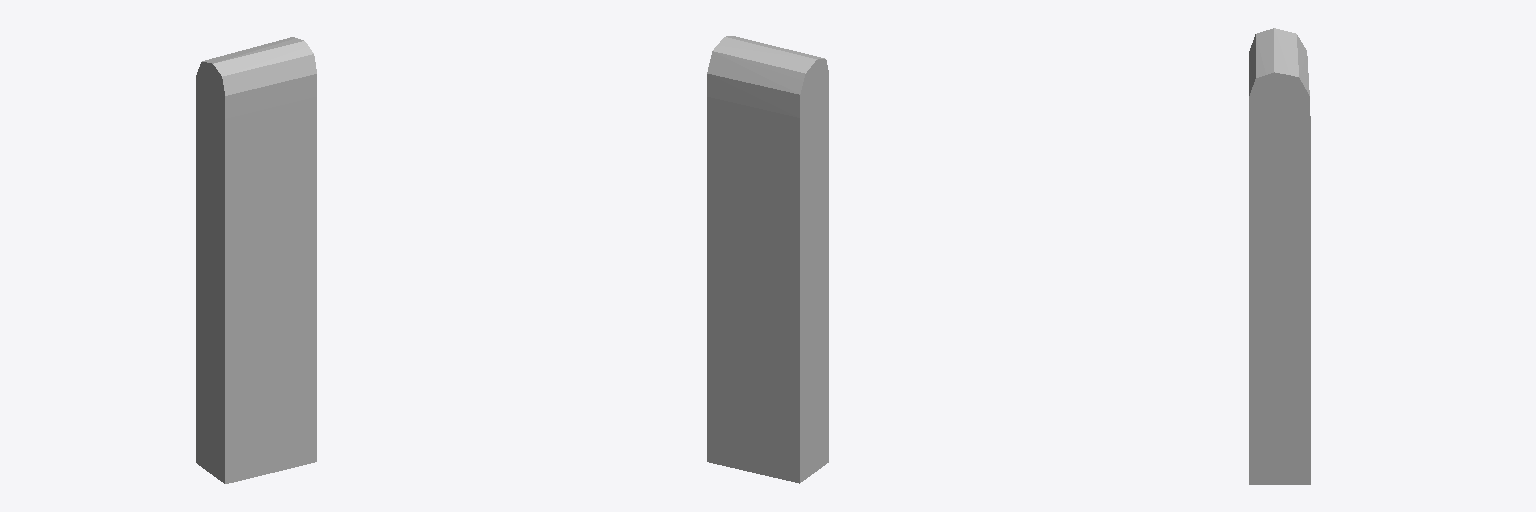
The model's file is ShipScene_collision_28.obj.
3 views of the same model, side by side, from view 1: azimuth 30°, elevation 25°; view 2: azimuth 150°, elevation 25°; view 3: azimuth 270°, elevation 25° (orthographic).
Size of the model in its own units: 21.41 by 91.65 by 12.33.